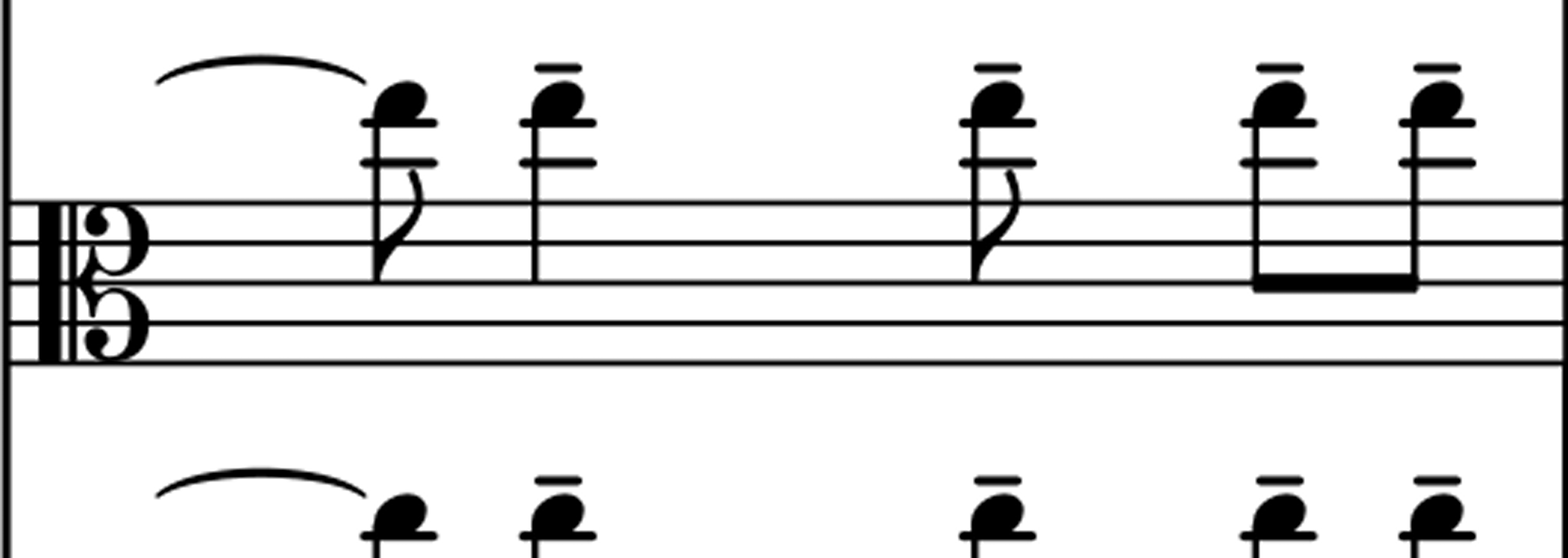clefCAlto: (27, 183, 169, 385)
ledgerLine: (519, 159, 596, 167)
noteheadBlackInSpace: (1410, 494, 1462, 538), (971, 495, 1022, 538), (1254, 494, 1304, 537), (532, 495, 583, 537), (1411, 81, 1462, 121), (375, 495, 426, 534), (972, 81, 1021, 121), (375, 81, 425, 120), (532, 81, 582, 120), (1254, 82, 1304, 120)
slur: (156, 469, 364, 497)
